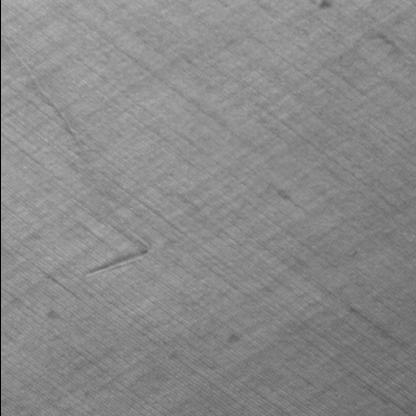objects: (1, 28, 153, 278)
